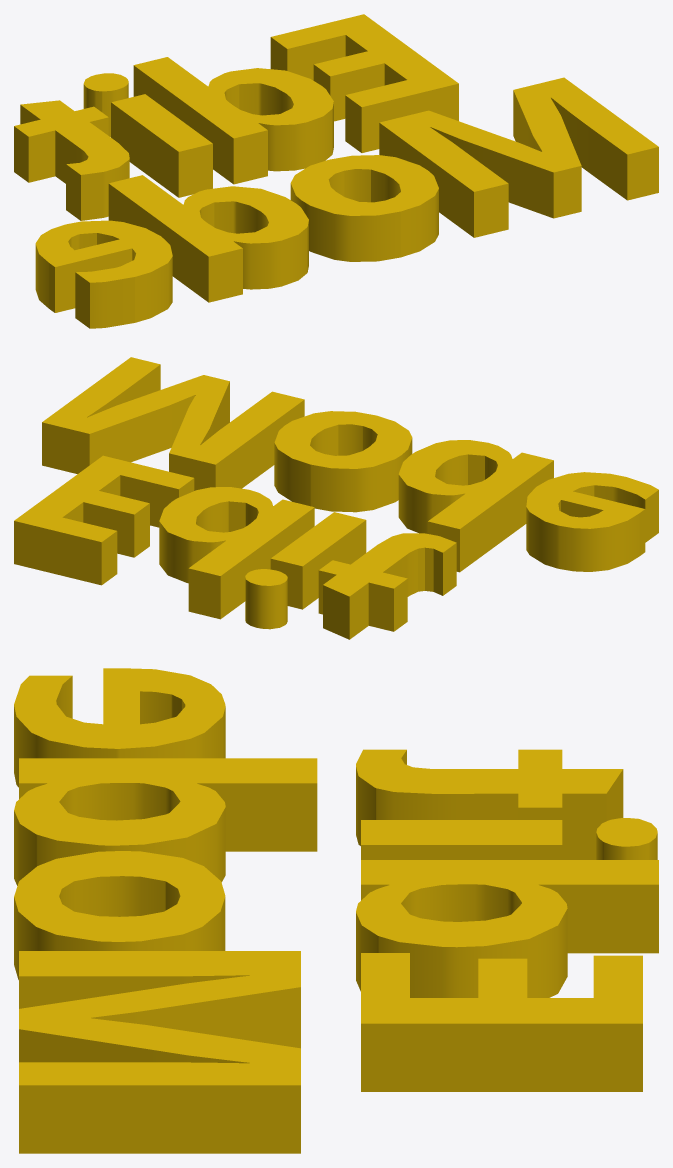
Rendered from EditMode.fbx.
3 renders of one model, top to bottom at view 1: azimuth 30°, elevation 25°; view 2: azimuth 150°, elevation 25°; view 3: azimuth 270°, elevation 25°, orthographic. The views are drawn at different scales.
Parts seen in each view (by area): view 1: Char_H_1_curve57; view 2: Char_H_1_curve57; view 3: Char_H_1_curve57.
Boxes of the visible parts, x1,y1,x2,y2 form: Char_H_1_curve57: (14,14,658,328); Char_H_1_curve57: (14,357,658,639); Char_H_1_curve57: (14,668,658,1153).
Size of the model in its own units: 73.34 by 5.67 by 47.83.
